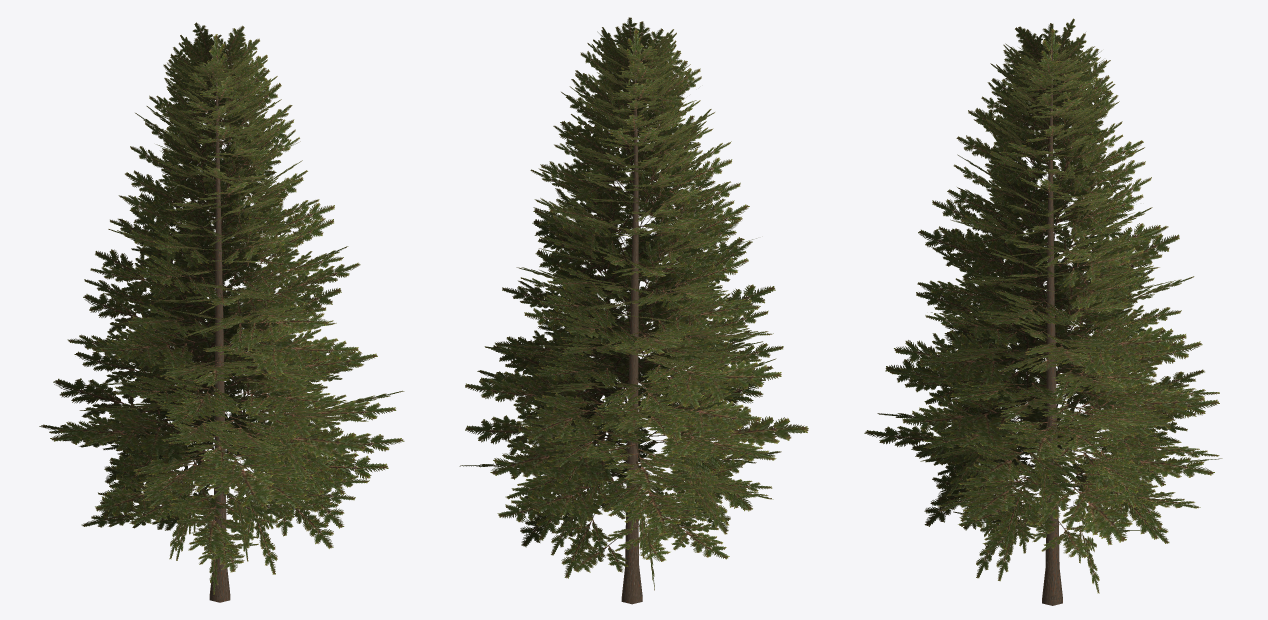
File: fir_small_b_lod2.gltf
3 renders of one model, left to right at view 1: azimuth 30°, elevation 25°; view 2: azimuth 150°, elevation 25°; view 3: azimuth 270°, elevation 25°, orthographic.
Parts seen in each view (by area): view 1: fir_small_b_LOD2; view 2: fir_small_b_LOD2; view 3: fir_small_b_LOD2.
Part boxes in pixels (left/top/right/bottom): fir_small_b_LOD2: left=39, top=22, right=404, bottom=602; fir_small_b_LOD2: left=459, top=17, right=808, bottom=604; fir_small_b_LOD2: left=864, top=18, right=1222, bottom=605.
Bounding box in the file's own units: 9.31 × 14.4 × 8.96.
2 materials, 2 textured.
